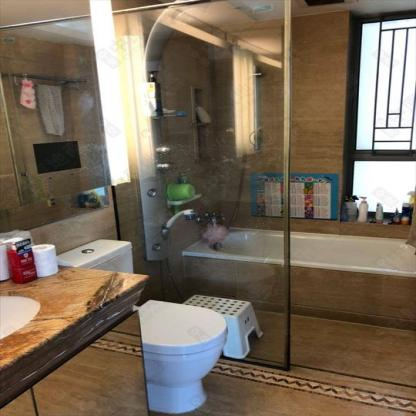Toilet: (181, 230, 415, 328), (55, 239, 133, 273)
Toilet Sink: (0, 292, 42, 339)
Water Cubicle: (116, 0, 288, 368)
